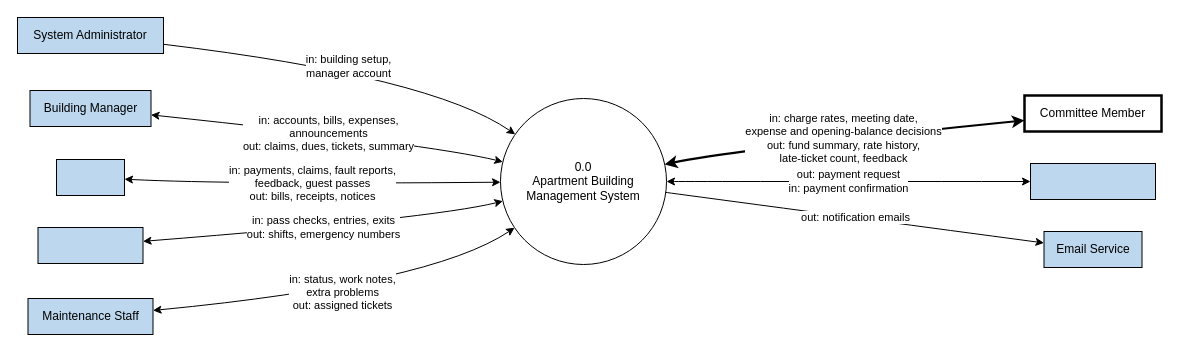
The diagram is 1180 pixels wide and 352 high, and some of its shapes have lost their labels. Each missing label, with the centre of its shape:
"Payment Gateway" goes at point (1093, 181).
"Resident" goes at point (90, 177).
"Security Guard" goes at point (90, 245).
